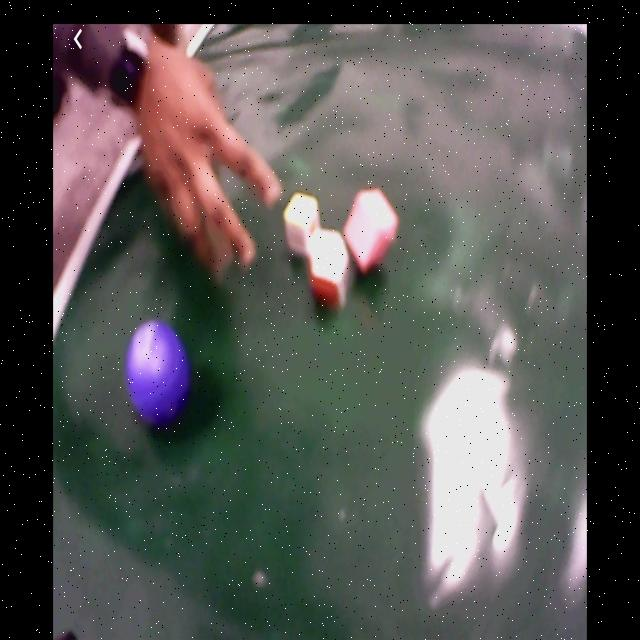ball: (126, 323, 189, 423)
